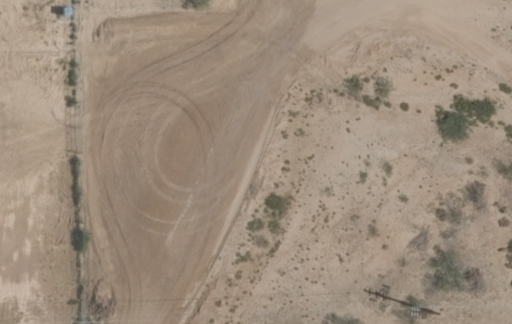DT: (366, 291, 438, 315)
